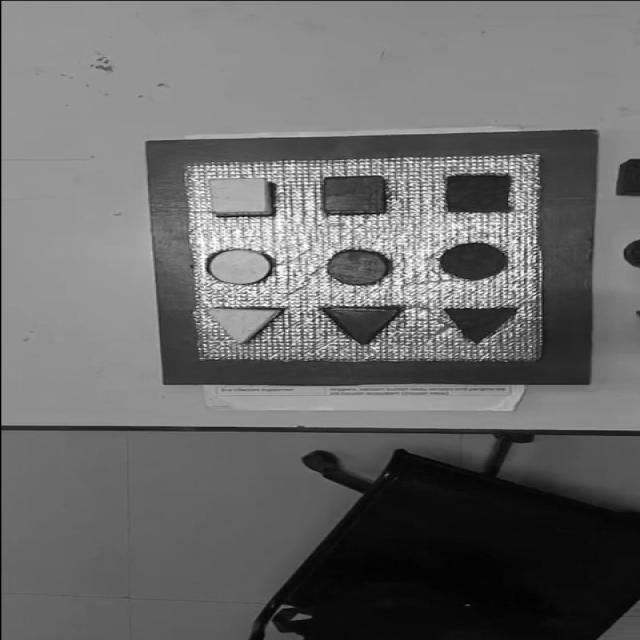bcircle: (623, 239, 640, 268)
bcube: (616, 158, 639, 196)
mtcircle: (437, 241, 509, 280)
mtcube: (443, 174, 515, 214)
mttriangle: (440, 306, 521, 346)
rcircle: (326, 248, 391, 285)
rcube: (321, 175, 386, 215)
rtriangle: (320, 306, 402, 346)
wb: (181, 154, 546, 360)
ycircle: (205, 248, 274, 285)
ycube: (205, 177, 272, 217)
ytriangle: (204, 306, 287, 344)
